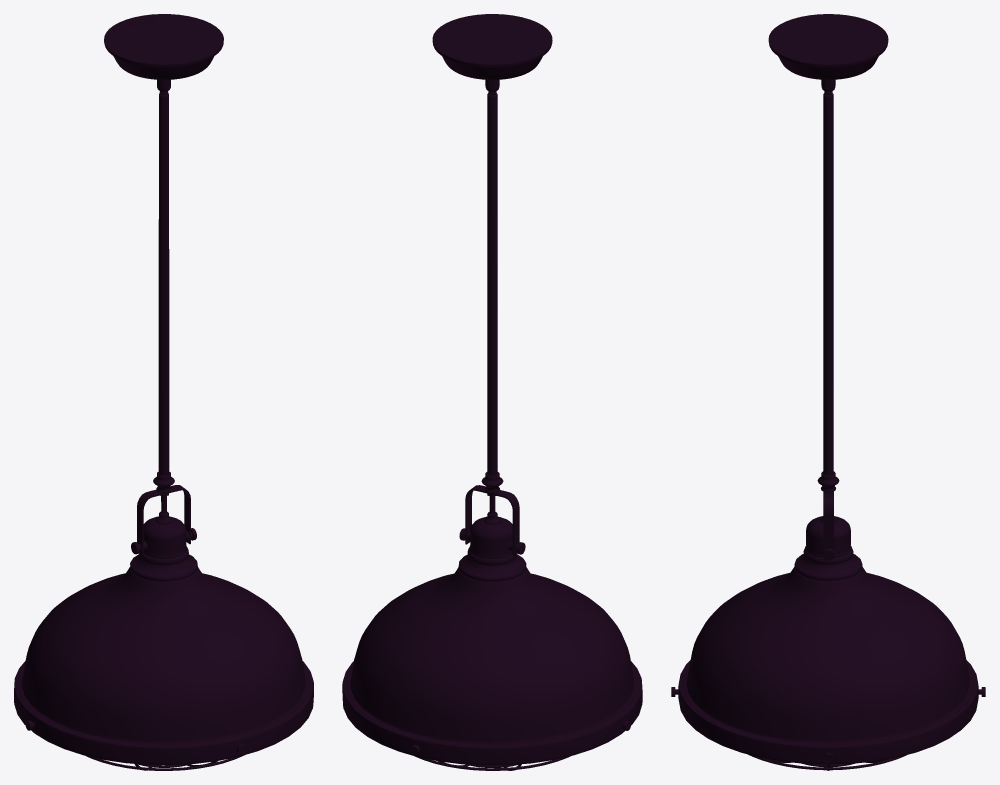
The picture shows the model from 3 angles, left to right: view 1: azimuth 30°, elevation 25°; view 2: azimuth 150°, elevation 25°; view 3: azimuth 270°, elevation 25°; orthographic projection.
Visible parts, largest first — view 1: RootNode; view 2: RootNode; view 3: RootNode.
Part boxes in pixels (x1,y1,x2,y2): RootNode: (14,14,313,770); RootNode: (342,14,642,770); RootNode: (671,14,985,770).
Bounding box in the file's own units: 0.341 × 0.8486 × 0.341.
1 material, 1 textured.
